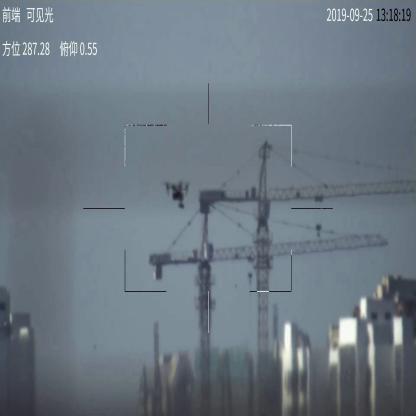uav: (161, 181, 191, 209)
